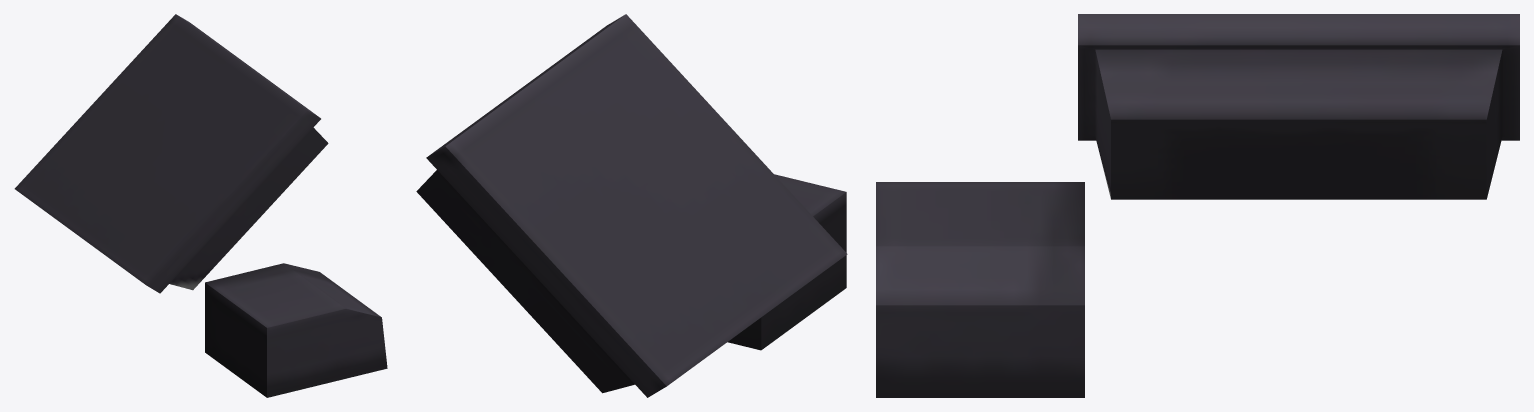
Rendered from Tx_props_cashier_machine_12.fbx.
3 renders of one model, left to right at view 1: azimuth 30°, elevation 25°; view 2: azimuth 150°, elevation 25°; view 3: azimuth 270°, elevation 25°, orthographic. The views are drawn at different scales.
Parts seen in each view (by area): view 1: Tx_props_cashier_machine; view 2: Tx_props_cashier_machine; view 3: Tx_props_cashier_machine.
Boxes of the visible parts, bbox=[...] form: Tx_props_cashier_machine: bbox=[14, 14, 387, 397]; Tx_props_cashier_machine: bbox=[416, 14, 847, 397]; Tx_props_cashier_machine: bbox=[876, 14, 1519, 397].
Size of the model in its own units: 2.08 by 2.26 by 3.59.
